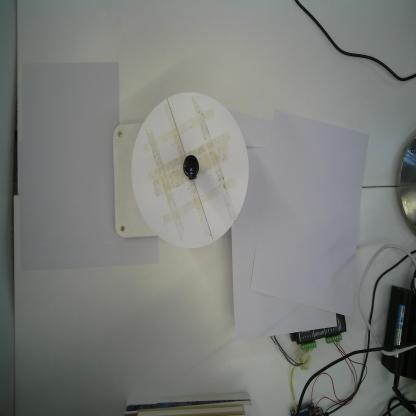Stationery: (182, 154, 199, 181)
